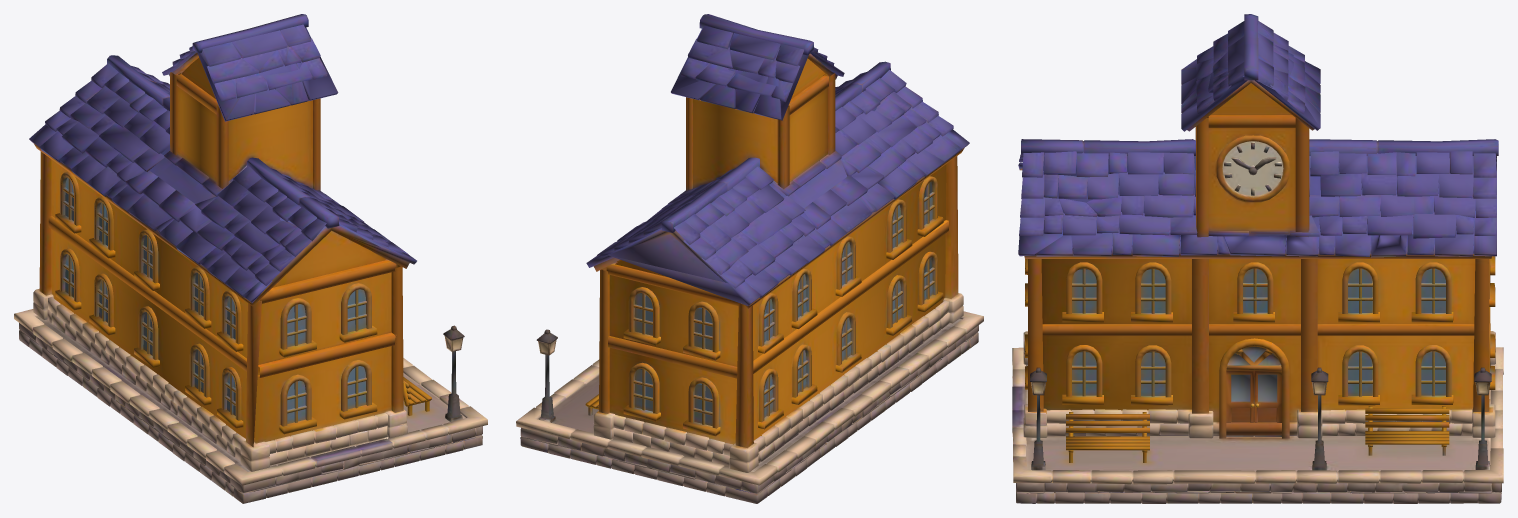
Rendered from endestasjonen.glb.
The picture shows the model from 3 angles, left to right: view 1: azimuth 30°, elevation 25°; view 2: azimuth 150°, elevation 25°; view 3: azimuth 270°, elevation 25°; orthographic projection. The views are drawn at different scales.
Parts seen in each view (by area): view 1: tripo_node_f52fde1e-3ec3-4641-8410-9febfde6ebdf; view 2: tripo_node_f52fde1e-3ec3-4641-8410-9febfde6ebdf; view 3: tripo_node_f52fde1e-3ec3-4641-8410-9febfde6ebdf.
Part boxes in pixels (box(x1,y1,x2,y2)): tripo_node_f52fde1e-3ec3-4641-8410-9febfde6ebdf: box(14, 14, 487, 503); tripo_node_f52fde1e-3ec3-4641-8410-9febfde6ebdf: box(516, 14, 983, 503); tripo_node_f52fde1e-3ec3-4641-8410-9febfde6ebdf: box(1012, 14, 1503, 503).
Size of the model in its own units: 0.6265 by 0.895 by 0.9995.
1 material, 1 textured.
